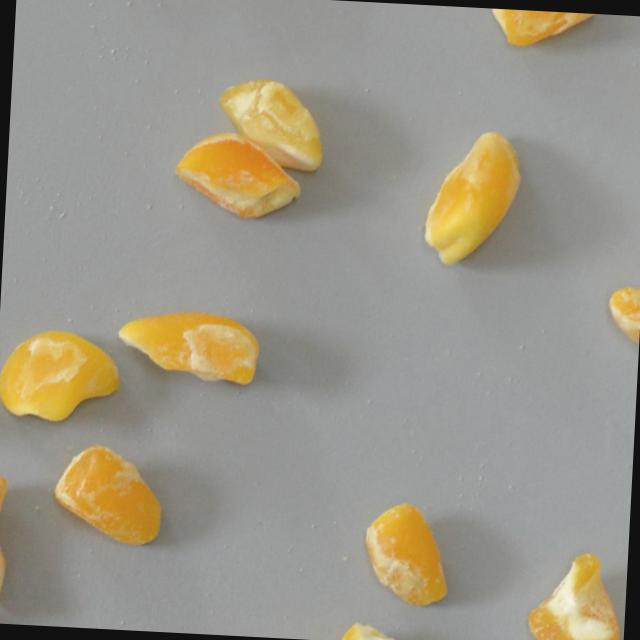dañado: (172, 127, 305, 222)
pelicula: (424, 131, 526, 267), (0, 323, 124, 429), (52, 440, 169, 547), (115, 307, 263, 386), (362, 499, 456, 612), (242, 63, 318, 185), (528, 548, 624, 640), (514, 10, 584, 64), (607, 281, 640, 347)
punto_negro: (0, 472, 13, 614)
